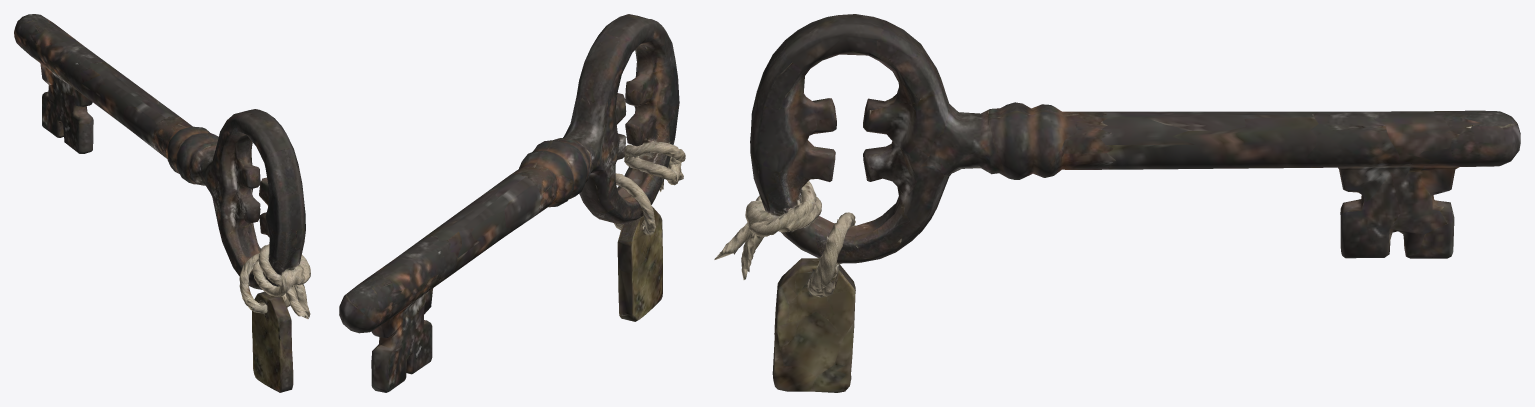
File: key.26f3dc9c.glb
The picture shows the model from 3 angles, left to right: view 1: azimuth 30°, elevation 25°; view 2: azimuth 150°, elevation 25°; view 3: azimuth 270°, elevation 25°; orthographic projection. The views are drawn at different scales.
Parts seen in each view (by area): view 1: item; view 2: item; view 3: item.
Part boxes in pixels (x1,y1,x2,y2): item: (14,14,310,392); item: (339,14,685,392); item: (714,14,1520,392).
Bounding box in the file's own units: 0.0124 × 0.0605 × 0.1198.
Materials: 1 (1 with a texture image).
